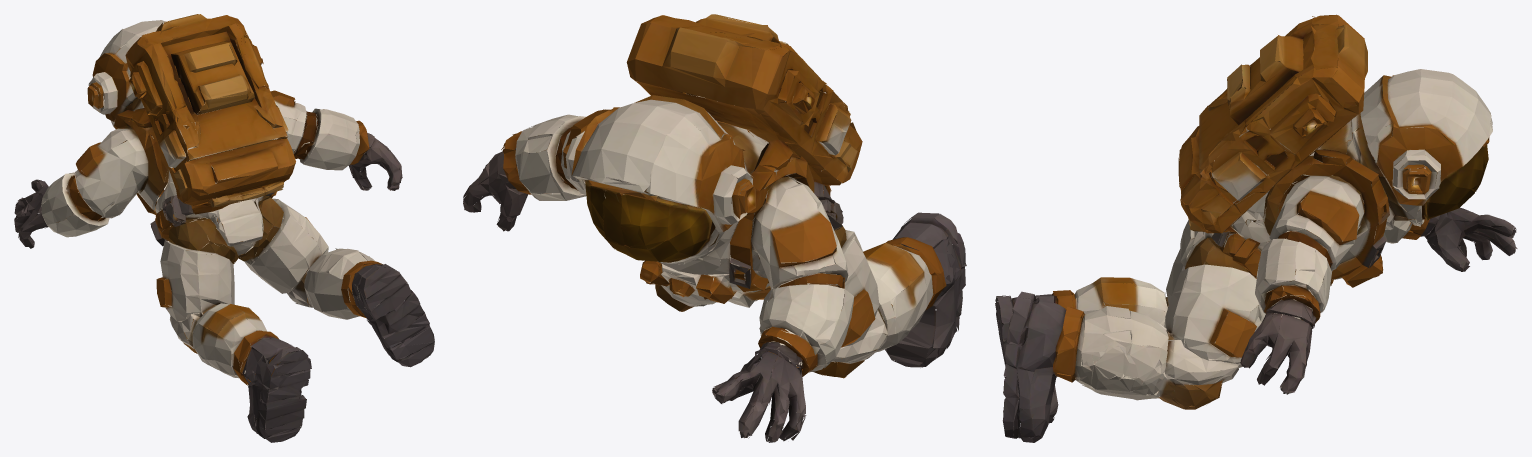
Rendered from astronaute.glb.
3 views of the same model, side by side, from view 1: azimuth 30°, elevation 25°; view 2: azimuth 150°, elevation 25°; view 3: azimuth 270°, elevation 25° (orthographic). The views are drawn at different scales.
Parts seen in each view (by area): view 1: astronaute; view 2: astronaute; view 3: astronaute.
Boxes of the visible parts, x1,y1,x2,y2 form: astronaute: (14,14,434,442); astronaute: (463,14,966,442); astronaute: (995,14,1517,442).
Bounding box in the file's own units: 1.57 × 1.53 × 1.8.
1 material, 1 textured.
